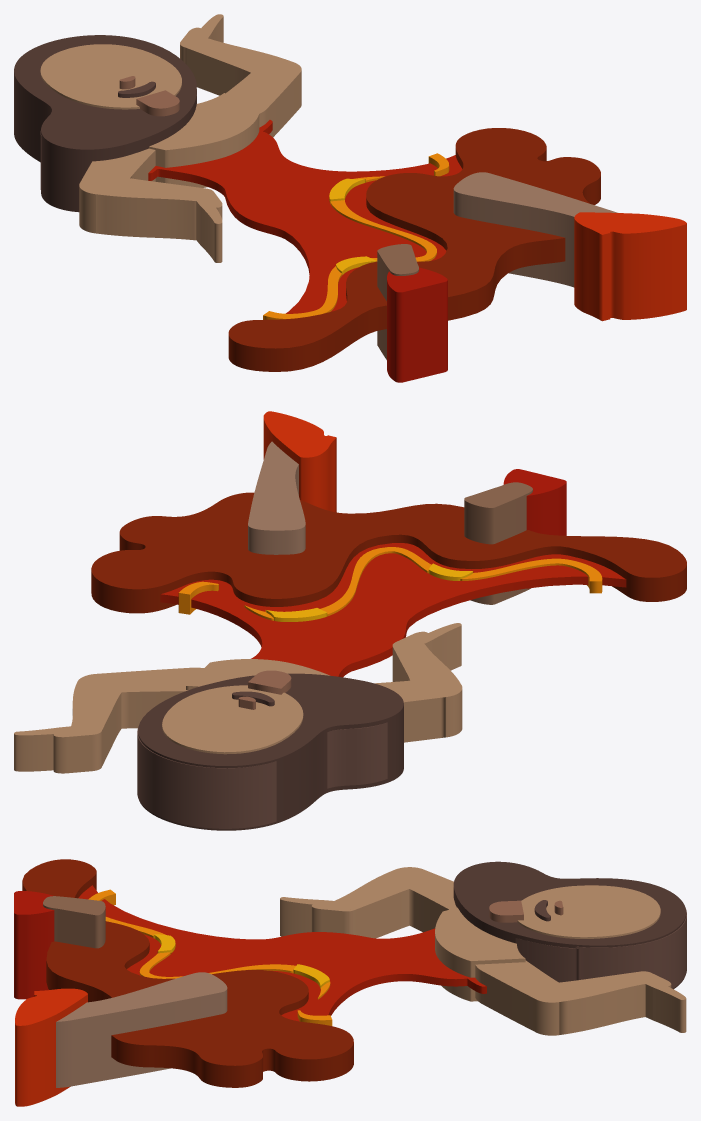
Rendered from emoji_u1f483_1f3fd.glb.
3 renders of one model, top to bottom at view 1: azimuth 30°, elevation 25°; view 2: azimuth 150°, elevation 25°; view 3: azimuth 270°, elevation 25°, orthographic. The views are drawn at different scales.
Parts seen in each view (by area): view 1: emoji_u1f483_1f3fd; view 2: emoji_u1f483_1f3fd; view 3: emoji_u1f483_1f3fd.
Part boxes in pixels (x1,y1,x2,y2): emoji_u1f483_1f3fd: [14, 14, 686, 382]; emoji_u1f483_1f3fd: [14, 411, 686, 830]; emoji_u1f483_1f3fd: [14, 859, 686, 1106].
Bounding box in the file's own units: 0.0241 × 0.0048 × 0.0332.
